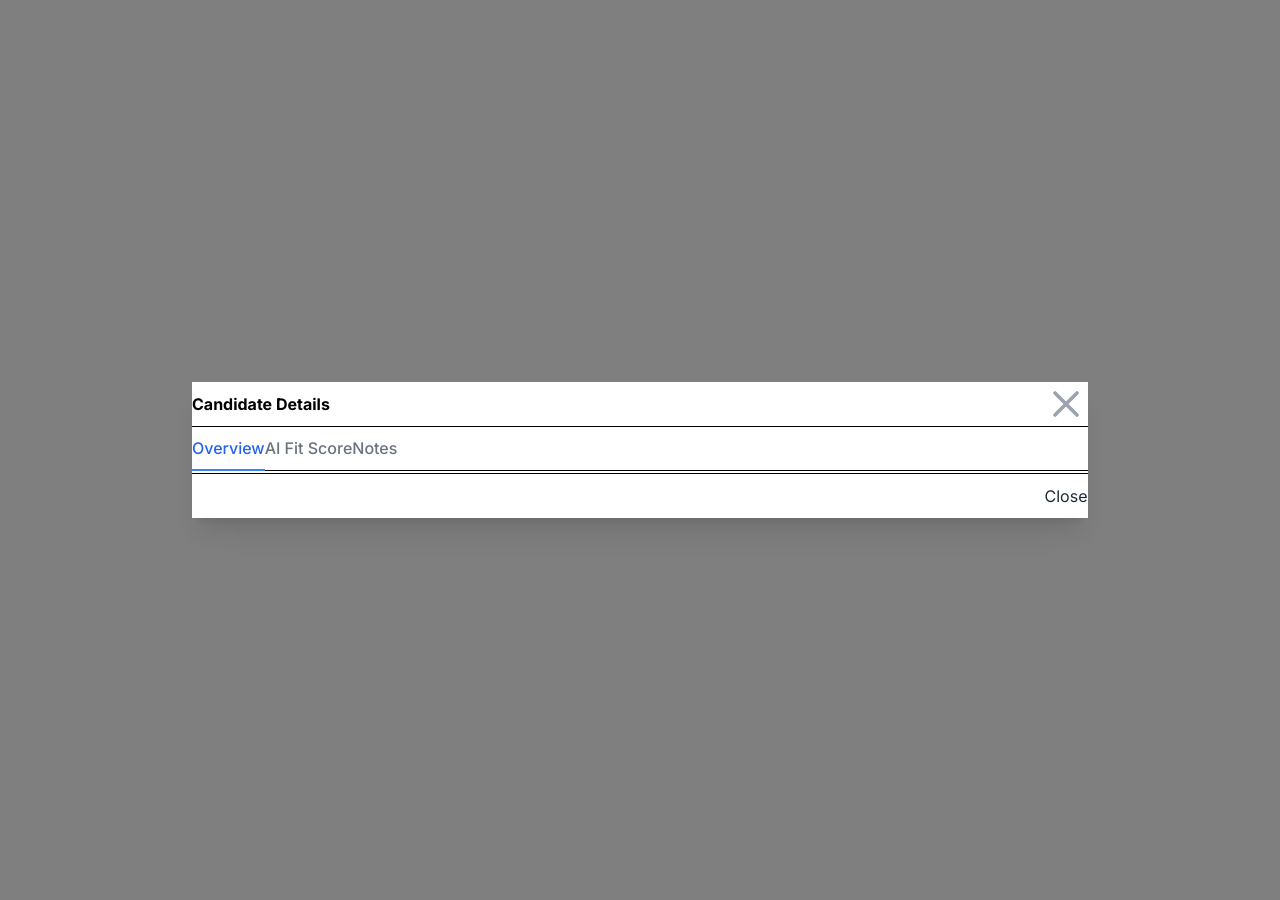
Test: CandidateDetailModal Component › Notes Tab Content › should toggle visibility radio buttons
Click the button "Notes": {"x": 375, "y": 449} left=352, top=427, right=397, bottom=471
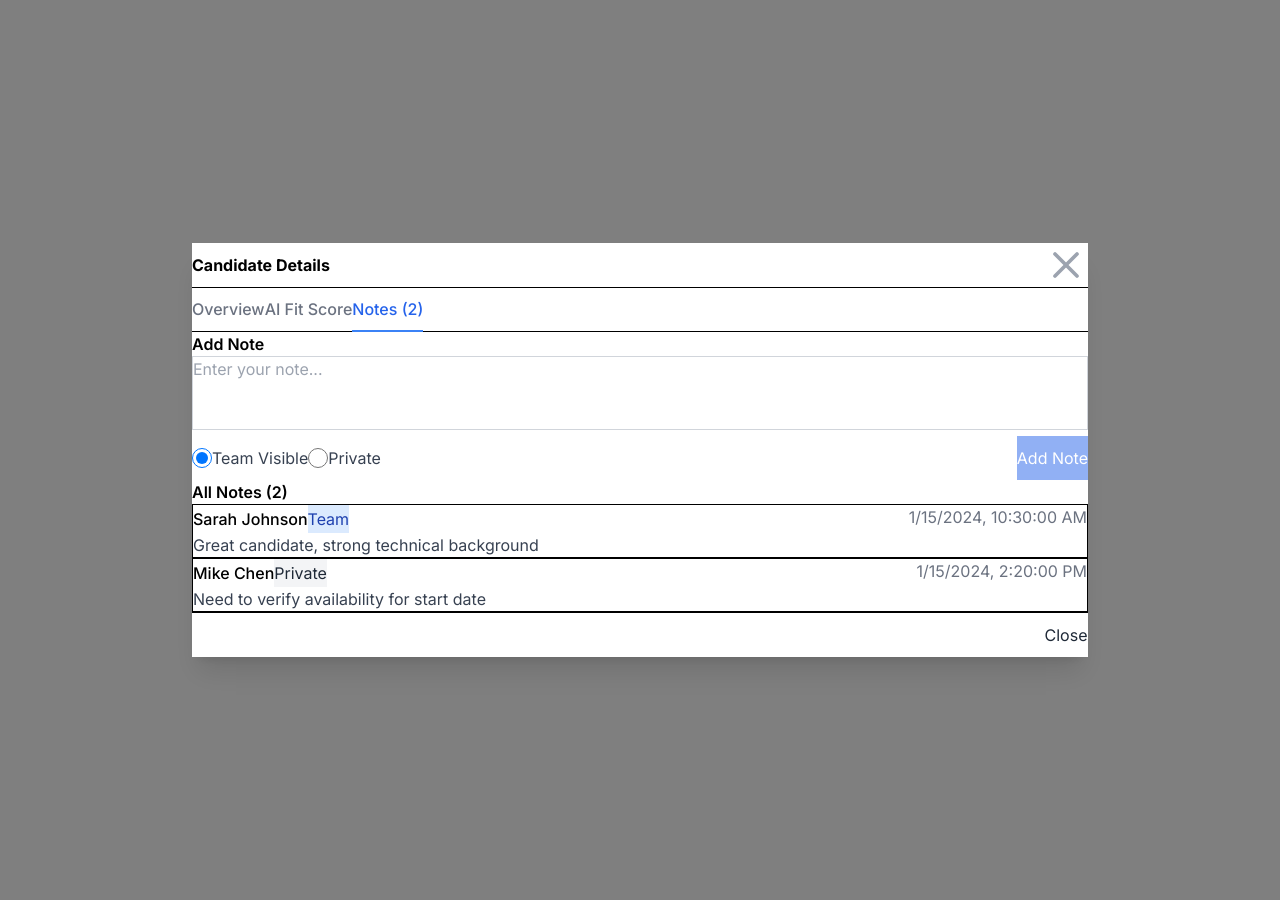
Expected: the radio button labelled "Team Visible" is checked, left=192, top=448, right=212, bottom=468
Expected: the radio button labelled "Private" is not checked
Click the radio button labelled "Private": {"x": 318, "y": 458} left=308, top=448, right=328, bottom=468
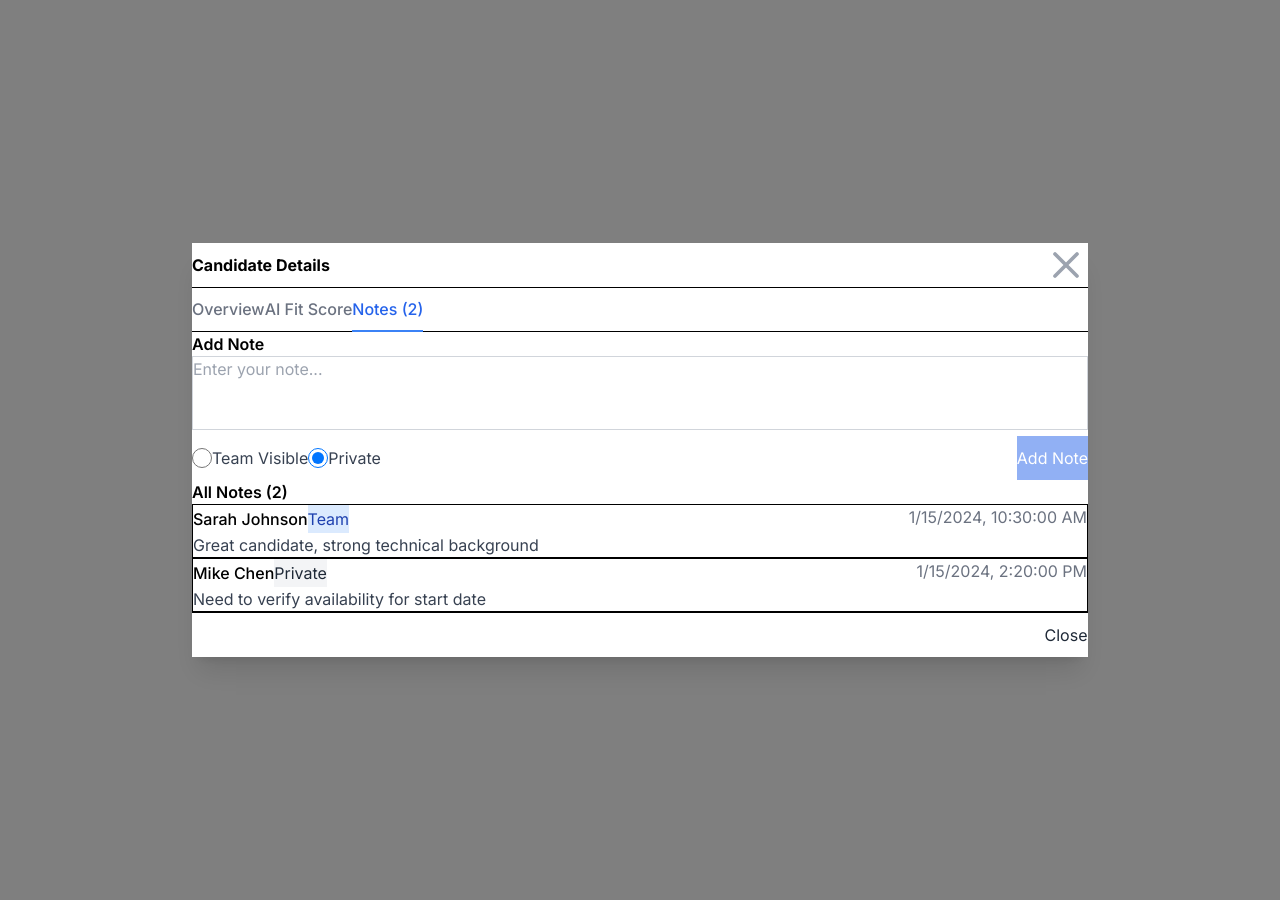
Expected: the radio button labelled "Private" is checked, left=308, top=448, right=328, bottom=468
Expected: the radio button labelled "Team Visible" is not checked, left=192, top=448, right=212, bottom=468
